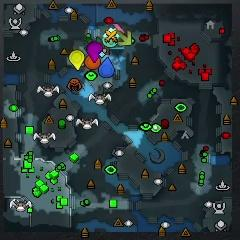Other: (102, 28, 119, 47)
p1: (98, 57, 115, 77)
p3: (88, 42, 103, 63)
p4: (69, 49, 84, 71)
p5: (85, 56, 101, 69)
x1: (113, 23, 123, 33)
x2: (117, 31, 132, 46)
x4: (86, 36, 101, 43)
